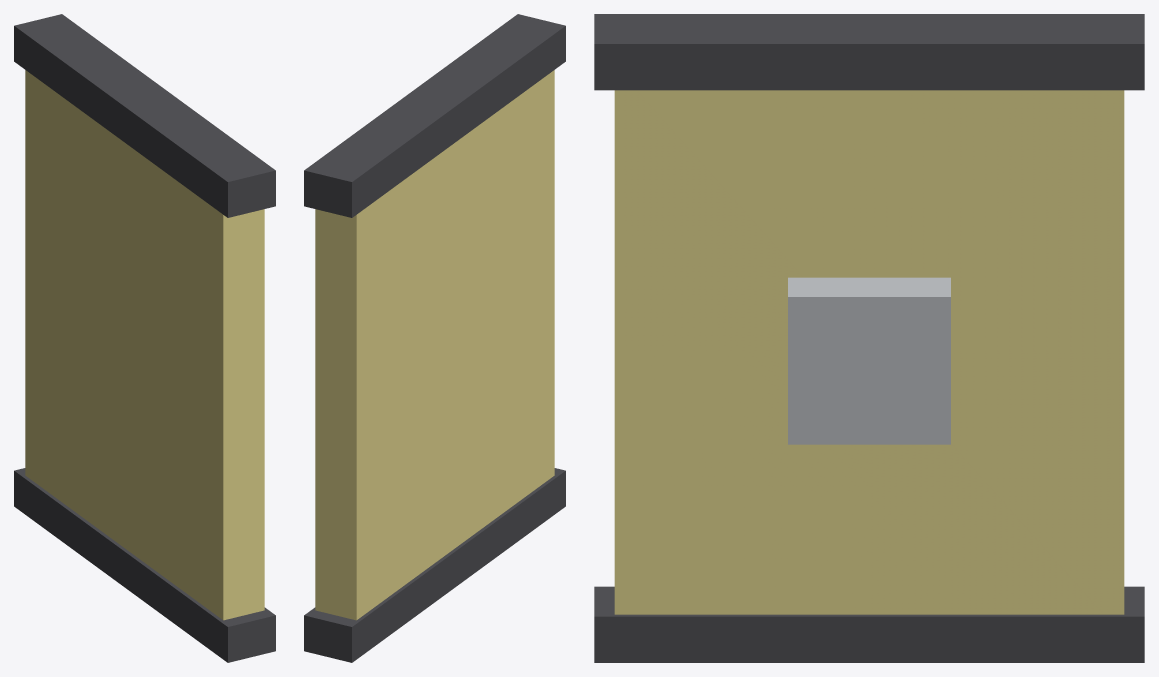
The model's file is shield.glb.
3 views of the same model, side by side, from view 1: azimuth 30°, elevation 25°; view 2: azimuth 150°, elevation 25°; view 3: azimuth 270°, elevation 25° (orthographic). The views are drawn at different scales.
Visible parts, largest first — view 1: Shield; view 2: Shield; view 3: Shield.
Part boxes in pixels (bbox=[...]): Shield: bbox=[14, 14, 275, 662]; Shield: bbox=[304, 14, 565, 662]; Shield: bbox=[594, 14, 1144, 662].
Size of the model in its own units: 0.11 by 0.67 by 0.54.
